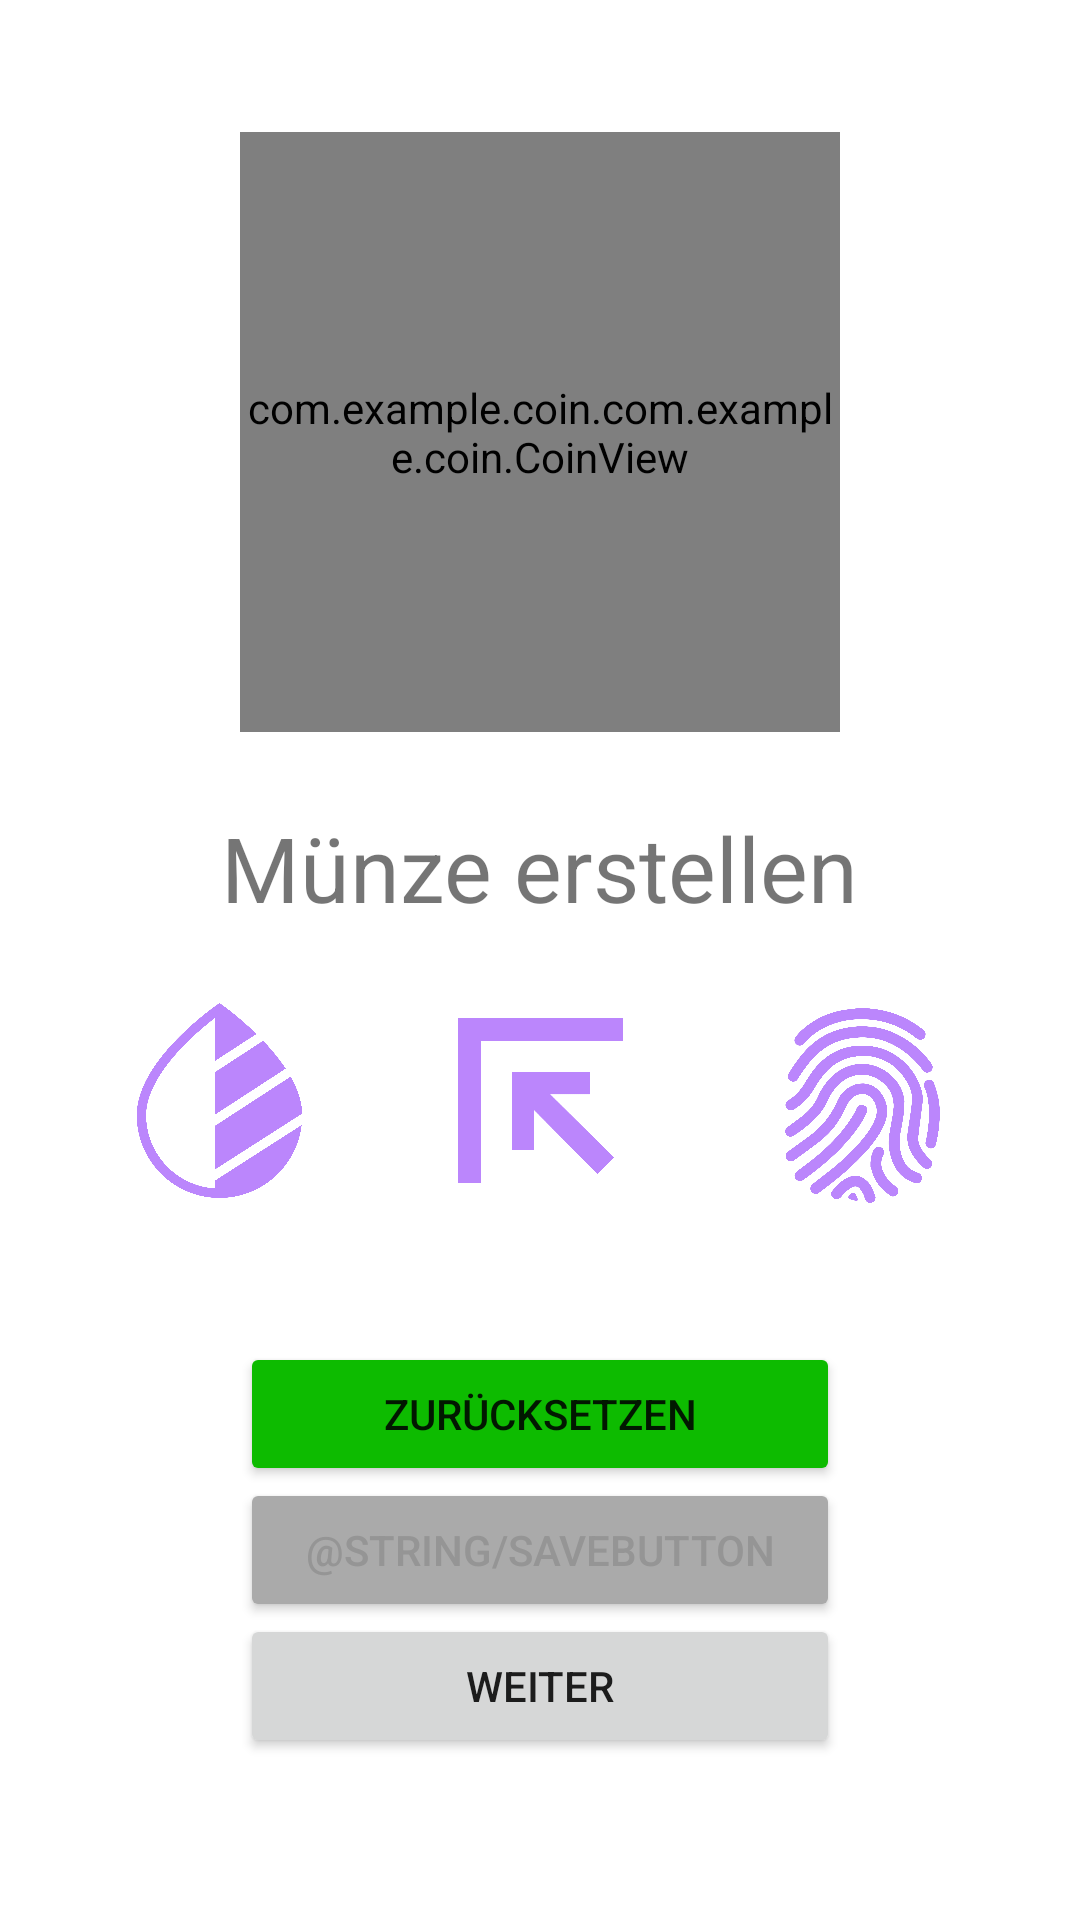

Icon click points for this 1080px×1920px phone screenshot, format (x,y):
Farbe: (219,1100)
